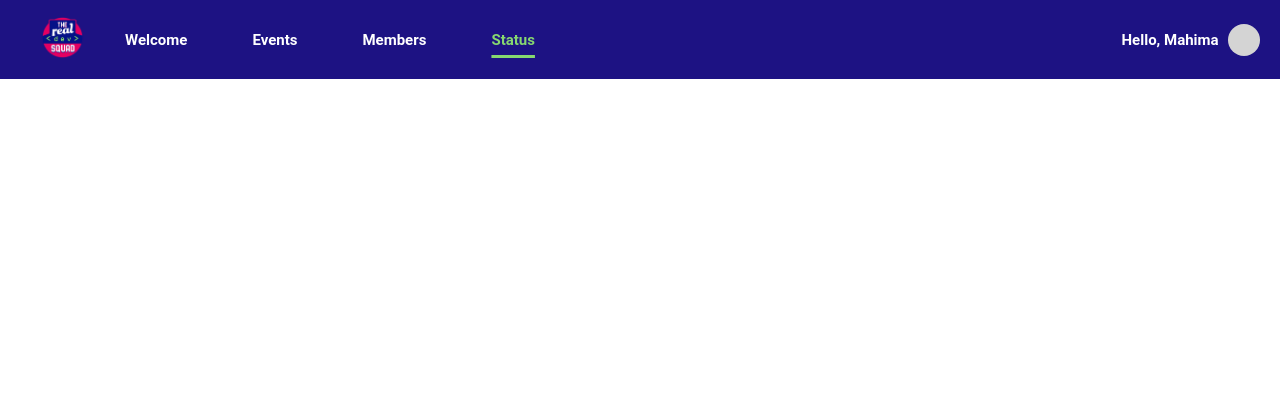
Test: Navbar › should toggle the dropdown
Click the element with test id "toggler": (1191, 40) [1122,24,1260,56]
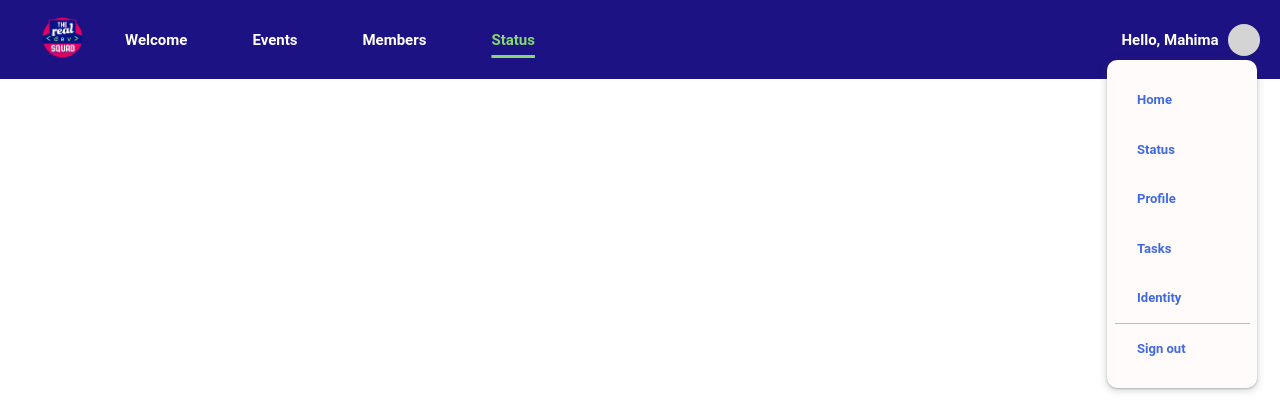
expect the element with test id "dropdown" is shown: met, box [1107,60,1257,388]
